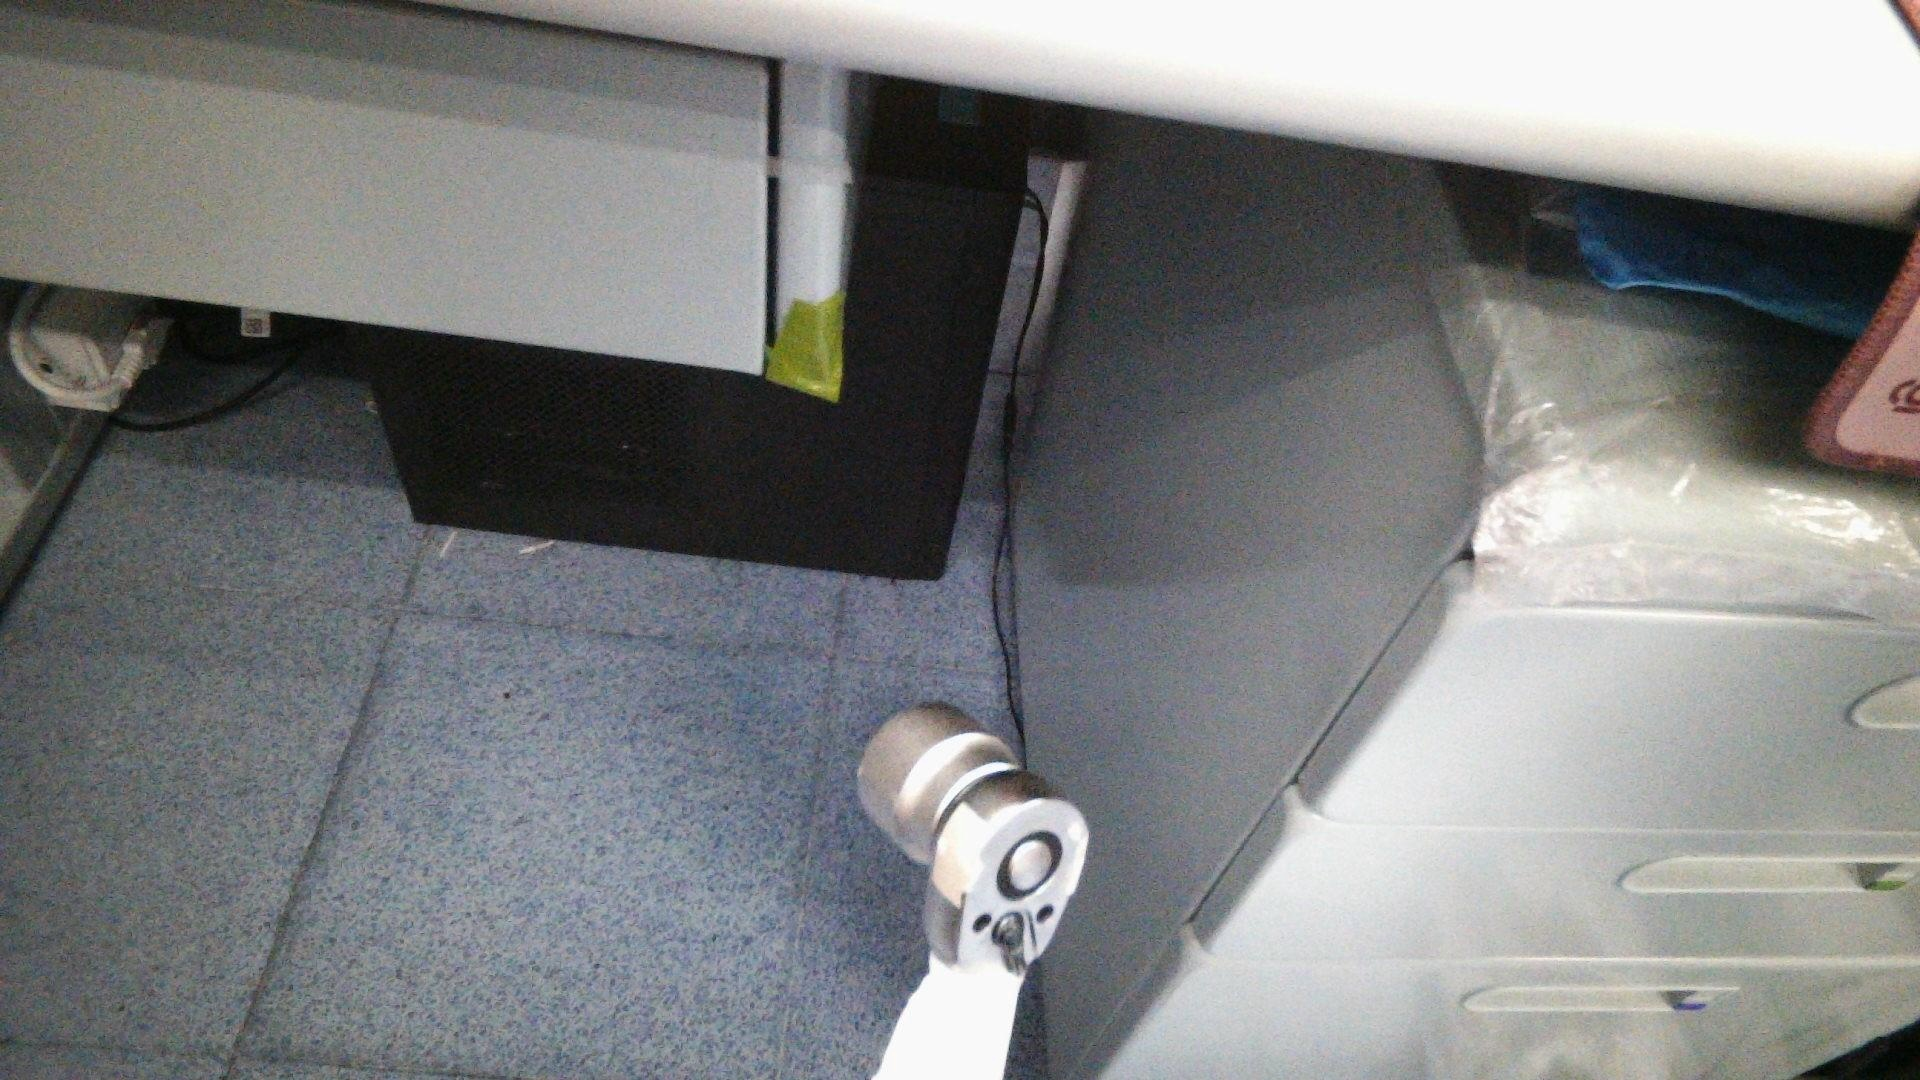wrench: (996, 827, 1060, 901)
